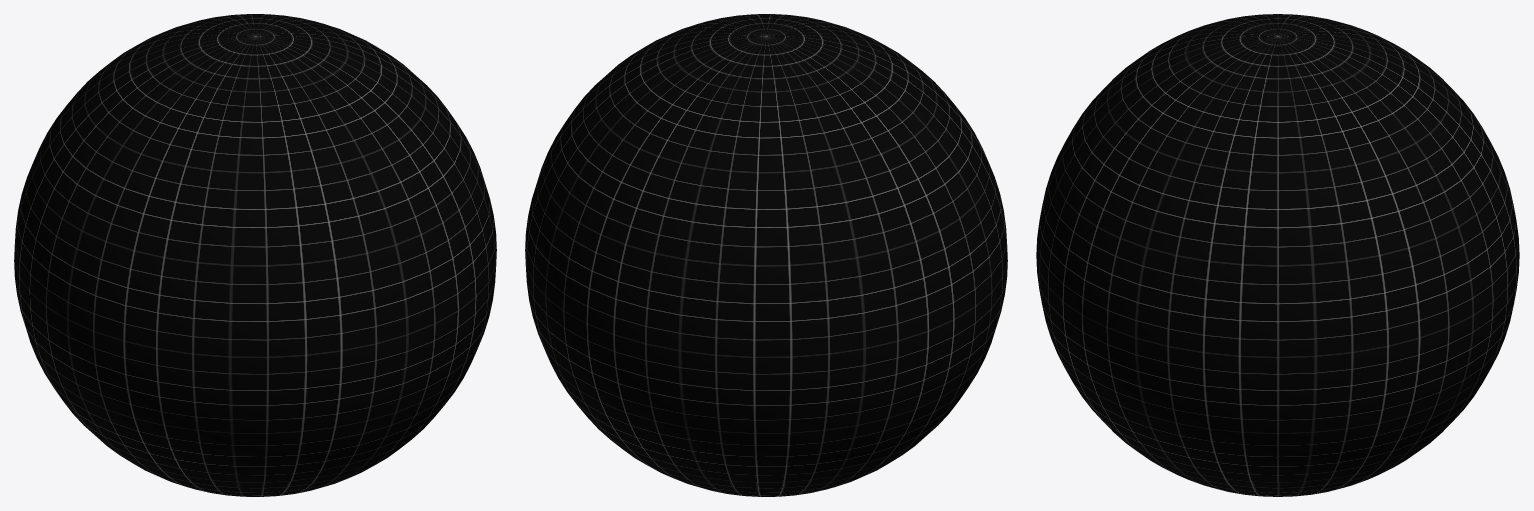
Rendered from SphereGrid.fbx.
3 views of the same model, side by side, from view 1: azimuth 30°, elevation 25°; view 2: azimuth 150°, elevation 25°; view 3: azimuth 270°, elevation 25° (orthographic).
Parts seen in each view (by area): view 1: pSphere1; view 2: pSphere1; view 3: pSphere1.
Part boxes in pixels (bbox=[...]): pSphere1: bbox=[14, 14, 496, 496]; pSphere1: bbox=[525, 14, 1007, 496]; pSphere1: bbox=[1036, 14, 1519, 496].
Bounding box in the file's own units: 14.98 × 14.98 × 14.98.
1 material, 1 textured.
